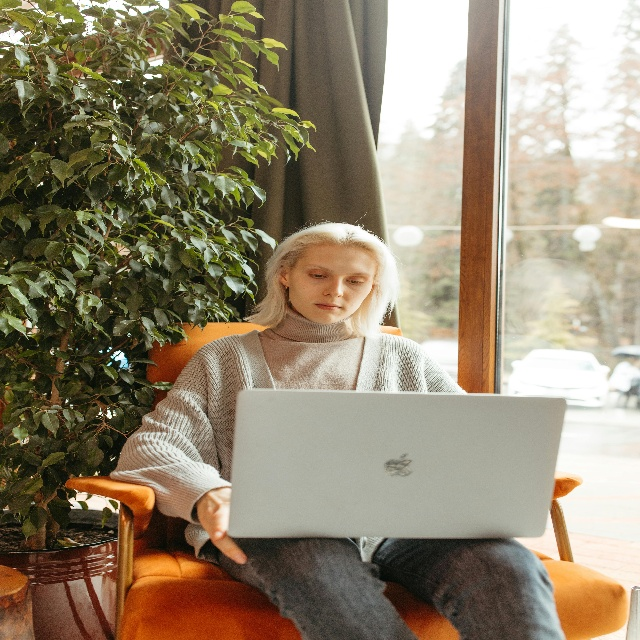Sin_guantes: (195, 484, 247, 566)
